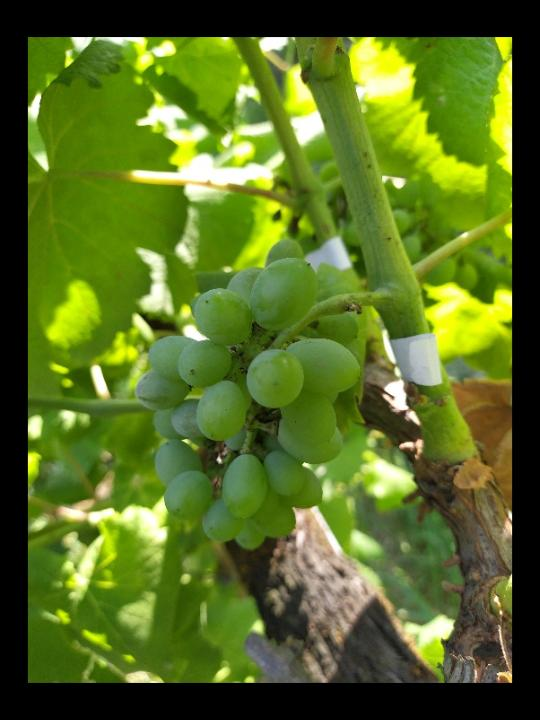grape: (134, 238, 361, 554)
